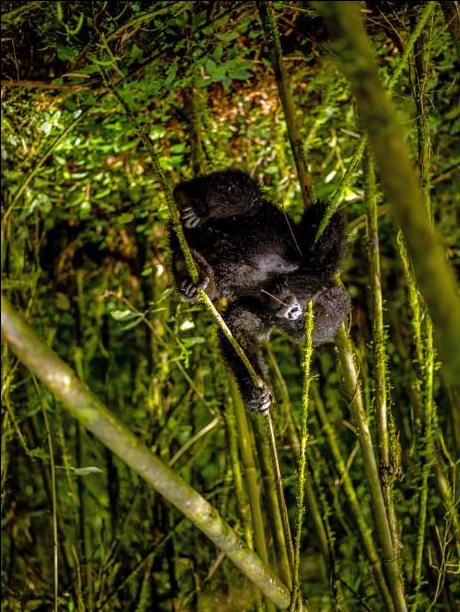goriile_montagne: (136, 150, 362, 382)
